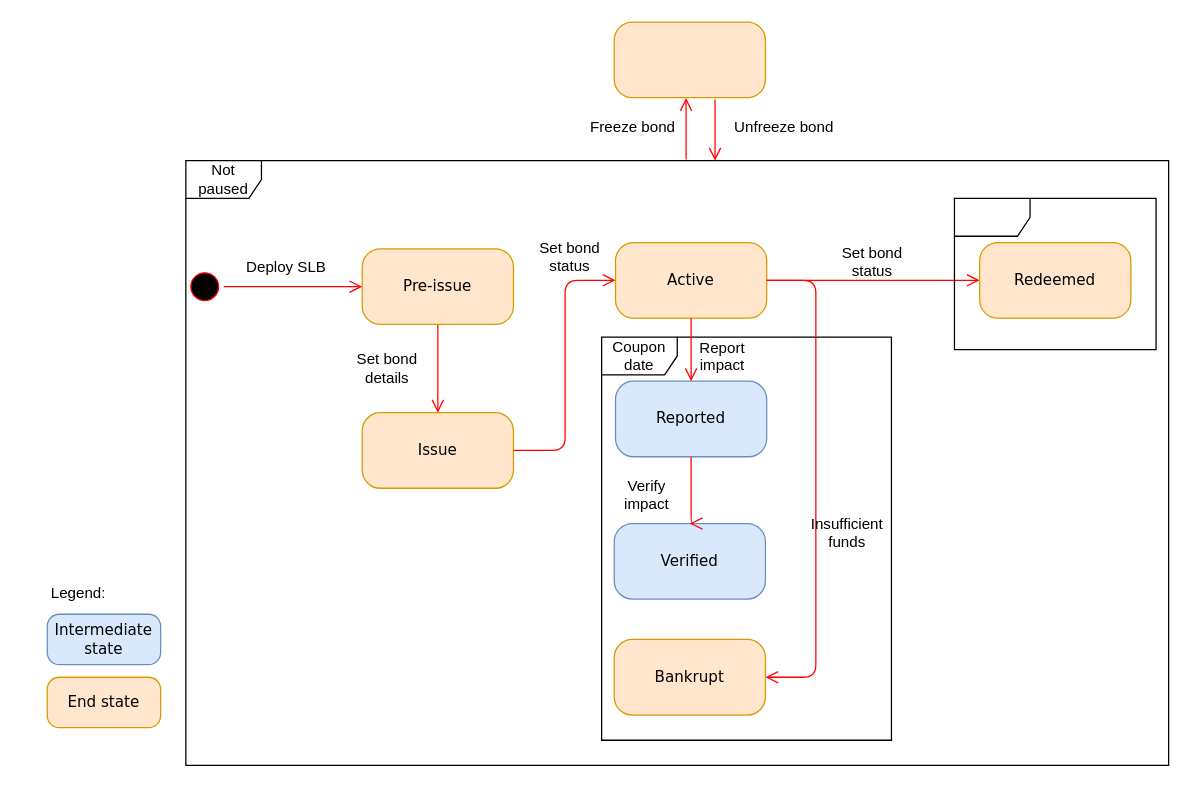
Some shapes in this 1191 by 788 pixel diagram are drawn without their labels. Each missing label, with the centre of its shape:
"Redemption date" goes at (x=1054, y=273).
"Suspended" goes at (x=689, y=59).
